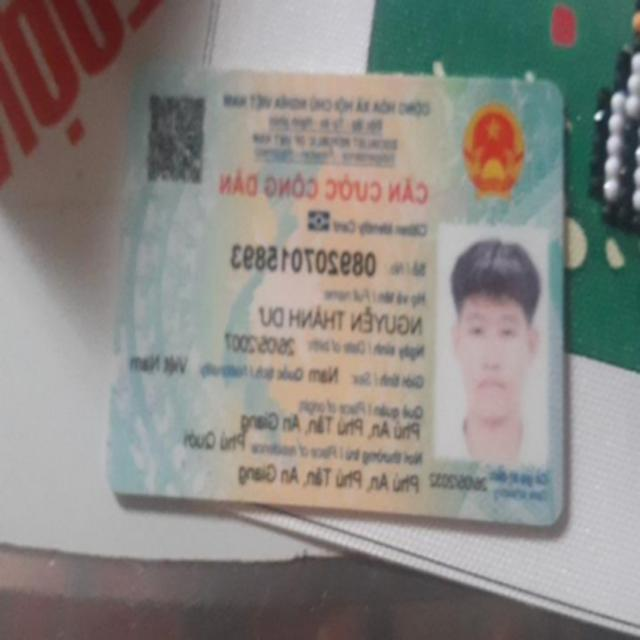bottom_left: (530, 492, 583, 546)
bottom_right: (94, 461, 144, 512)
image_person: (434, 227, 552, 466)
top_left: (530, 62, 581, 114)
top_right: (116, 43, 166, 95)
